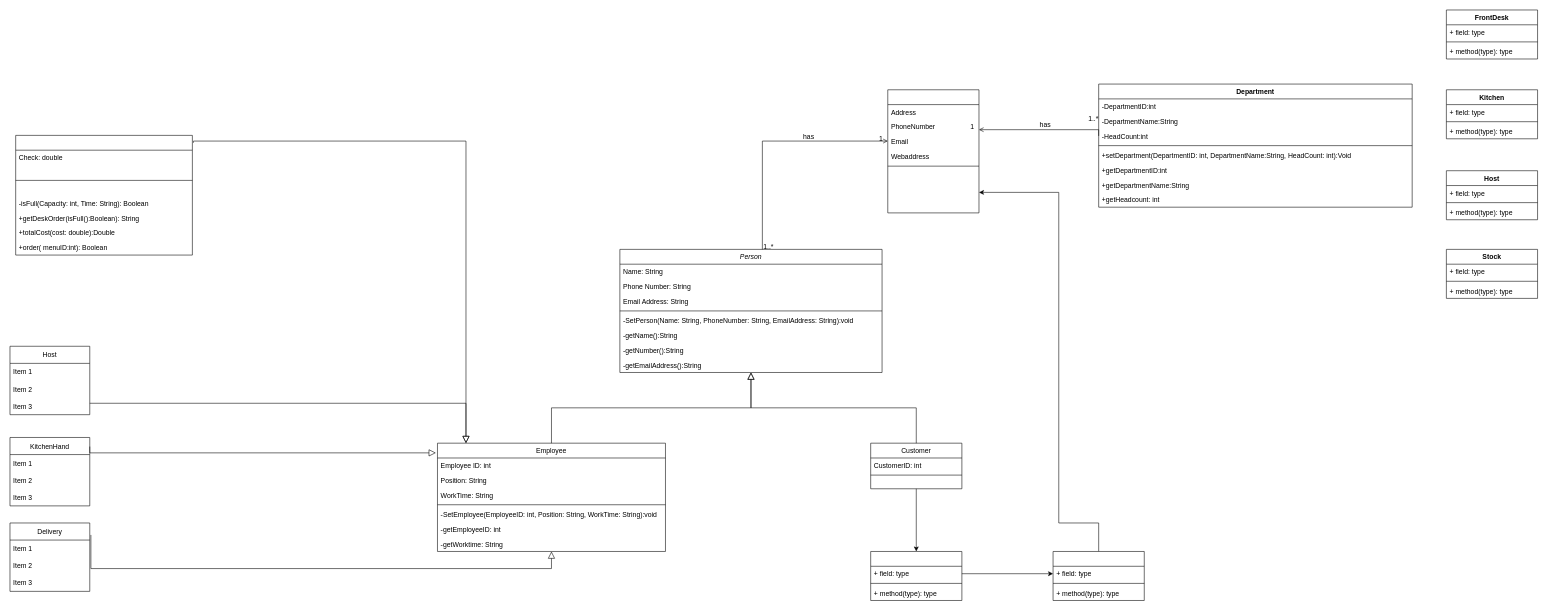
Some shapes in this 1548 by 612 pixel diagram are drawn without their labels. Each missing label, with the box of its shape:
Booking: (870, 551, 962, 600)
Front counter: (15, 135, 192, 255)
Income: (1053, 551, 1144, 600)
Resturant: (887, 89, 979, 213)
